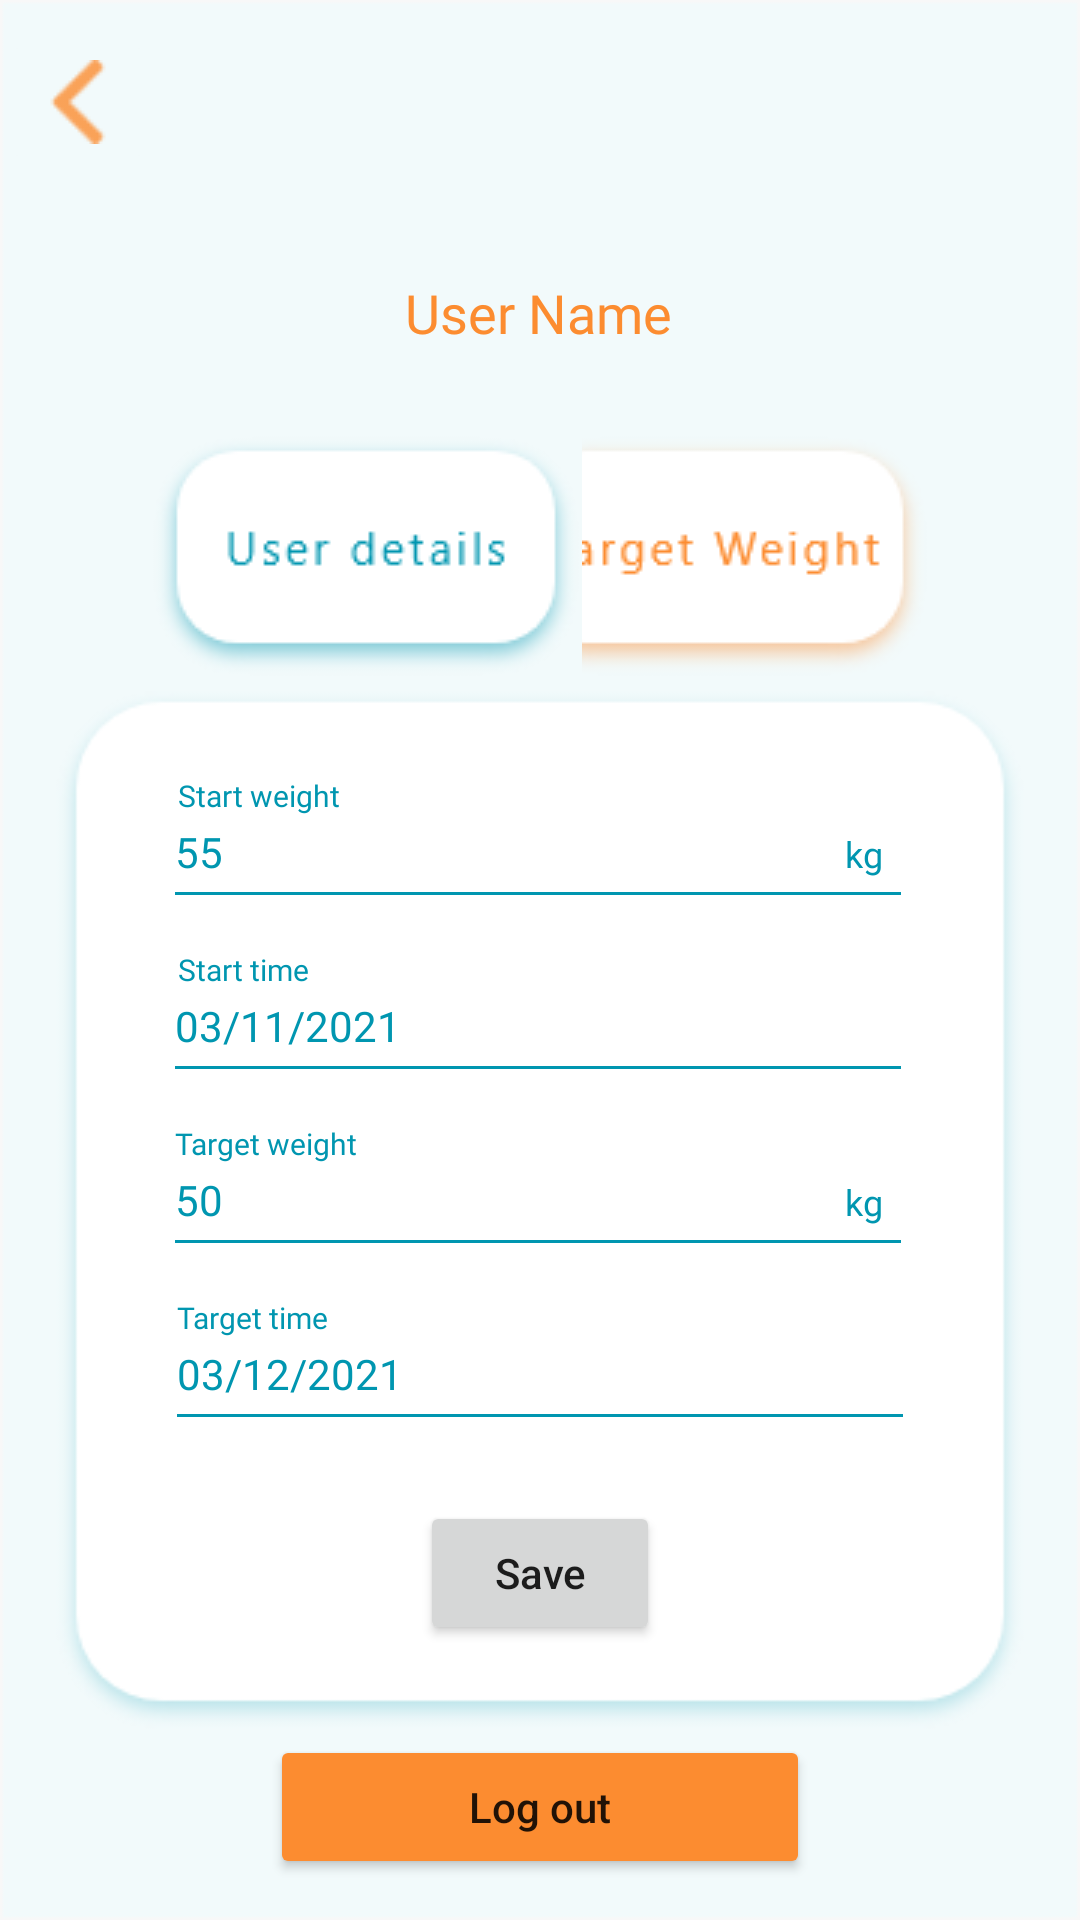

Icon click points for this 1080 × 1920 phone screenshot, format point (x, y):
back: point (78, 102)
